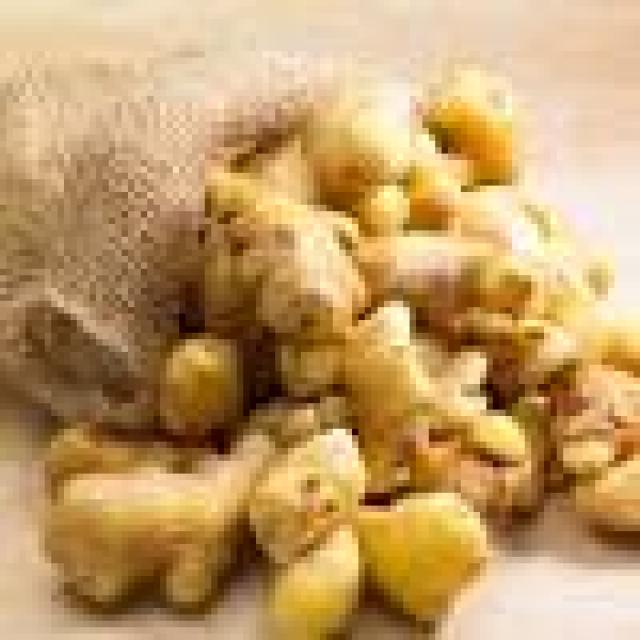ginger: (19, 96, 640, 640)
